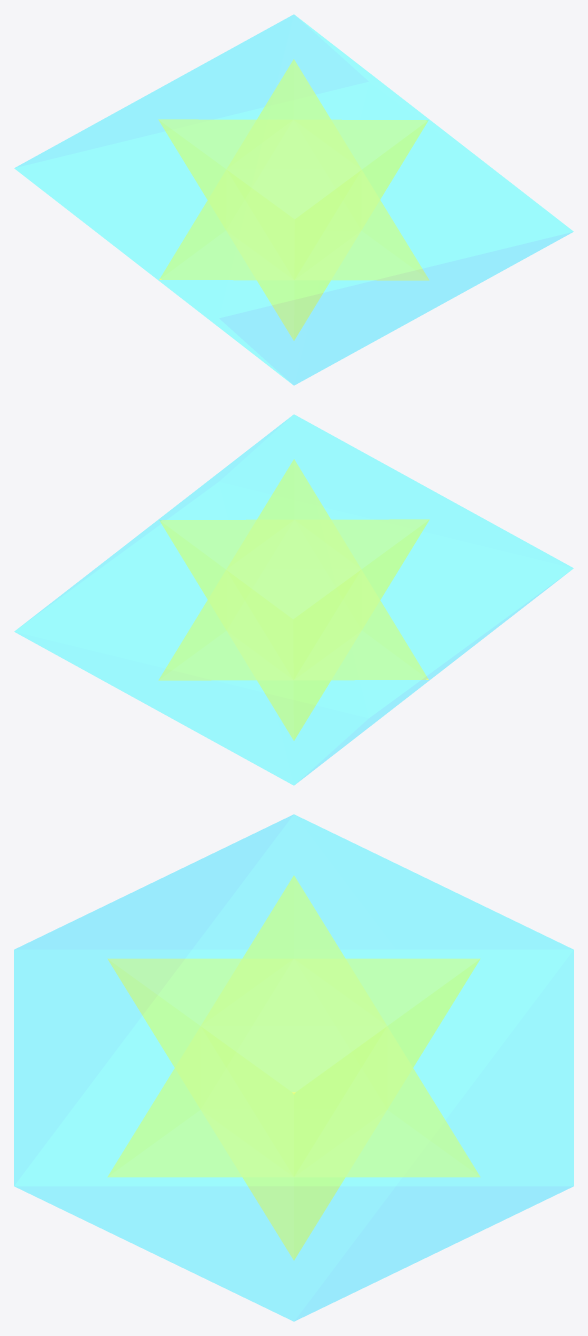
The model's file is energy.glb.
3 views of the same model, one above another, from view 1: azimuth 30°, elevation 25°; view 2: azimuth 150°, elevation 25°; view 3: azimuth 270°, elevation 25° (orthographic). The views are drawn at different scales.
Parts seen in each view (by area): view 1: container, merkaba; view 2: container, merkaba; view 3: container, merkaba.
Part boxes in pixels (bbox=[...]): container: bbox=[14, 14, 573, 385]; merkaba: bbox=[158, 59, 429, 340]; container: bbox=[14, 414, 573, 785]; merkaba: bbox=[158, 459, 429, 740]; container: bbox=[14, 814, 573, 1321]; merkaba: bbox=[108, 876, 479, 1259].
Size of the model in its own units: 6 by 6 by 6.
